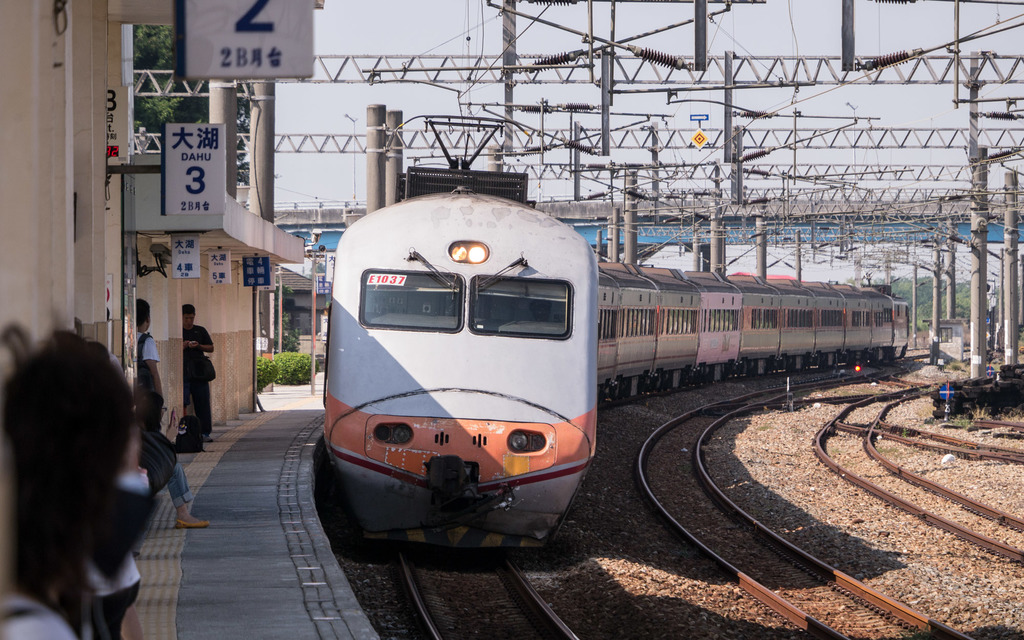train: (320, 109, 912, 561)
